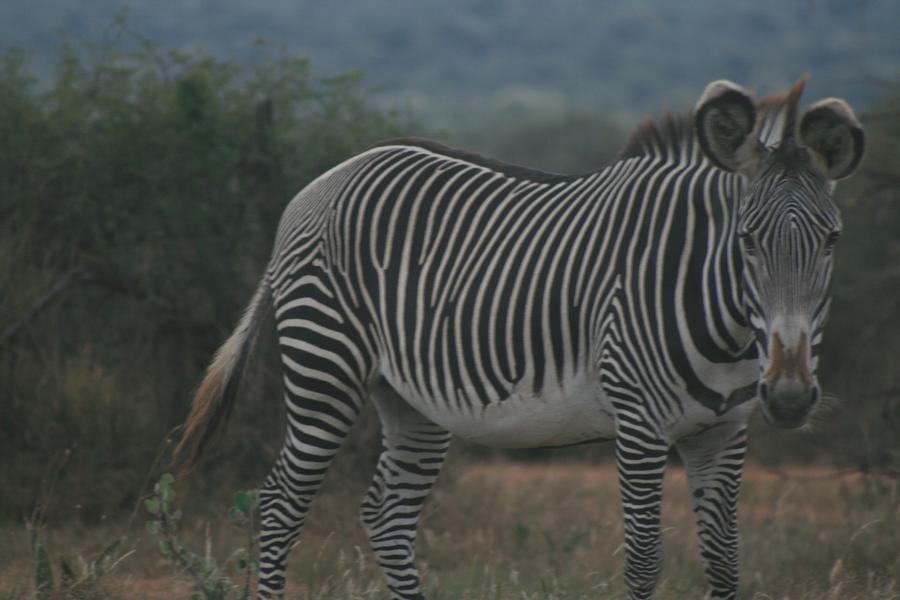zebra_grevys: (277, 125, 719, 424)
